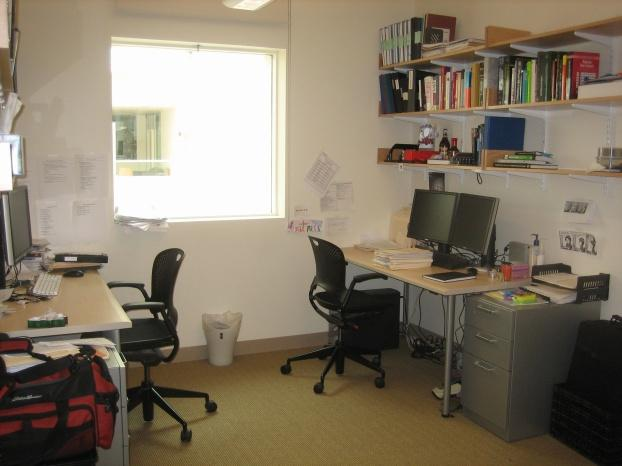AIO PC-Monitor-TV: (447, 192, 500, 255), (404, 188, 457, 246), (0, 184, 34, 267)
Filing Cabinet: (459, 295, 517, 444)
Kursi: (105, 247, 218, 444), (278, 233, 386, 394)
Meja: (0, 255, 132, 344), (334, 241, 531, 296)
